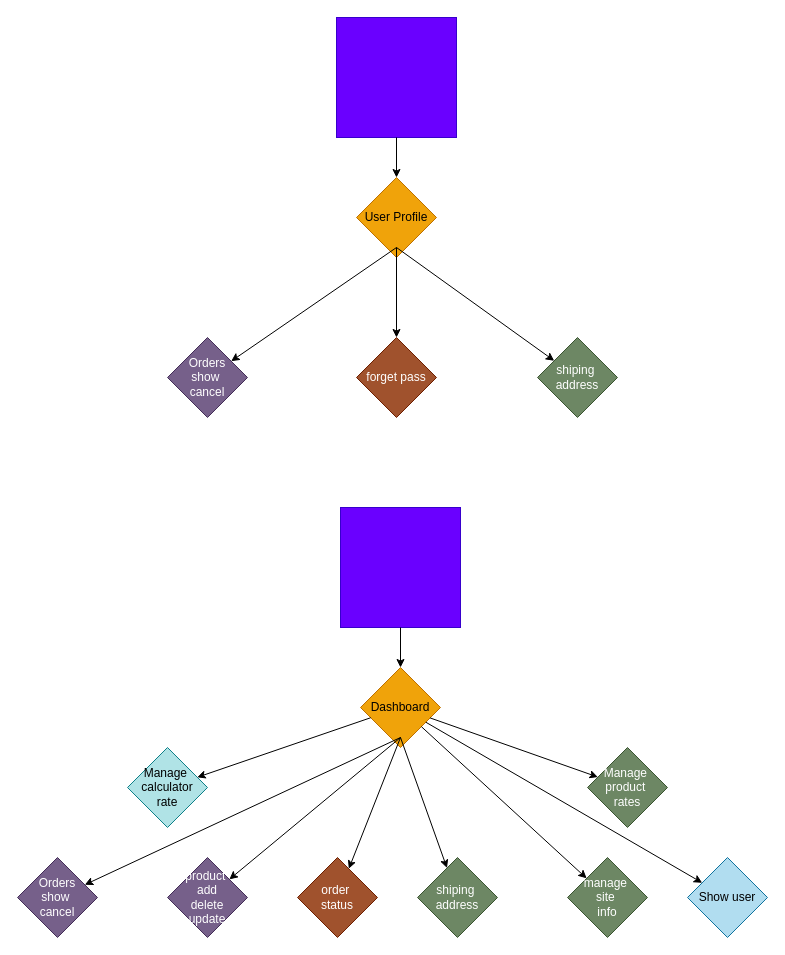
Some shapes in this 785 by 955 pixel diagram are drawn without their labels. The centre of each missing label's shape, as x and y in pixels:
Admin: the point at 400,567
user: the point at 396,77
